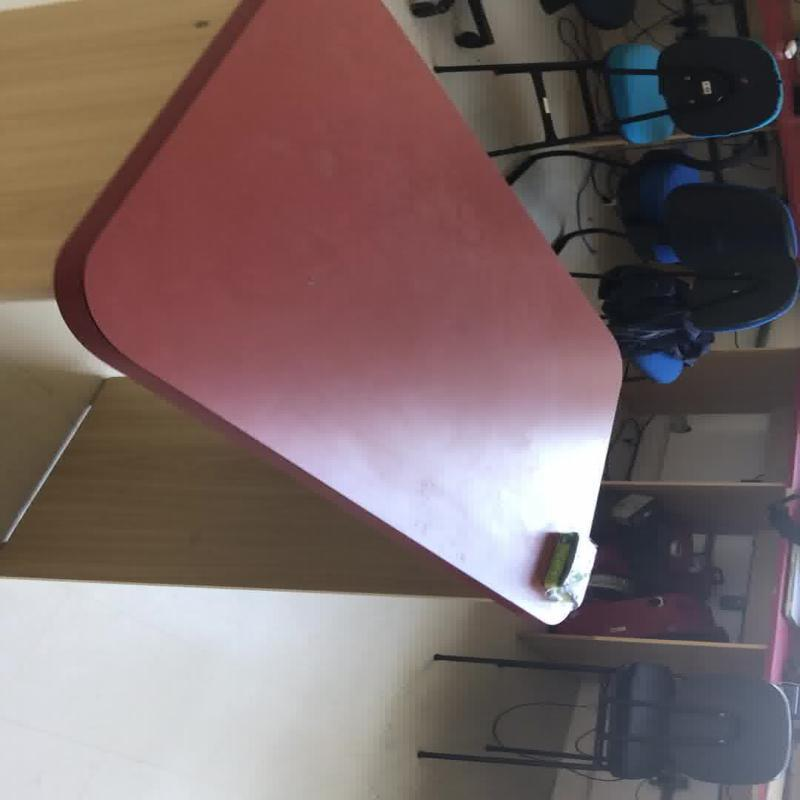sponge: (49, 0, 628, 625), (600, 40, 674, 144), (541, 531, 578, 600)
